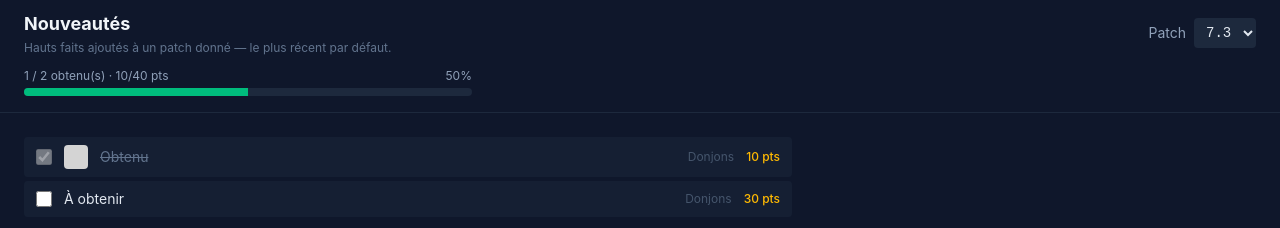
Scenario: NewPatchView › checks an achievement and refreshes the related counters
Expected: the button "À obtenir" is shown, [64,189,673,209]
Click the 2nd checkbox. click: point(44, 199)
box: [36,191,52,207]
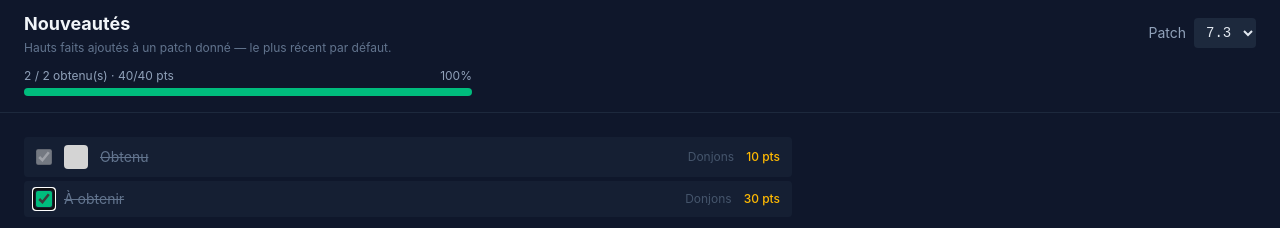
Expected: the text "2 / 2 obtenu(s) · 40/40 pts" is shown, [24,68,174,84]
